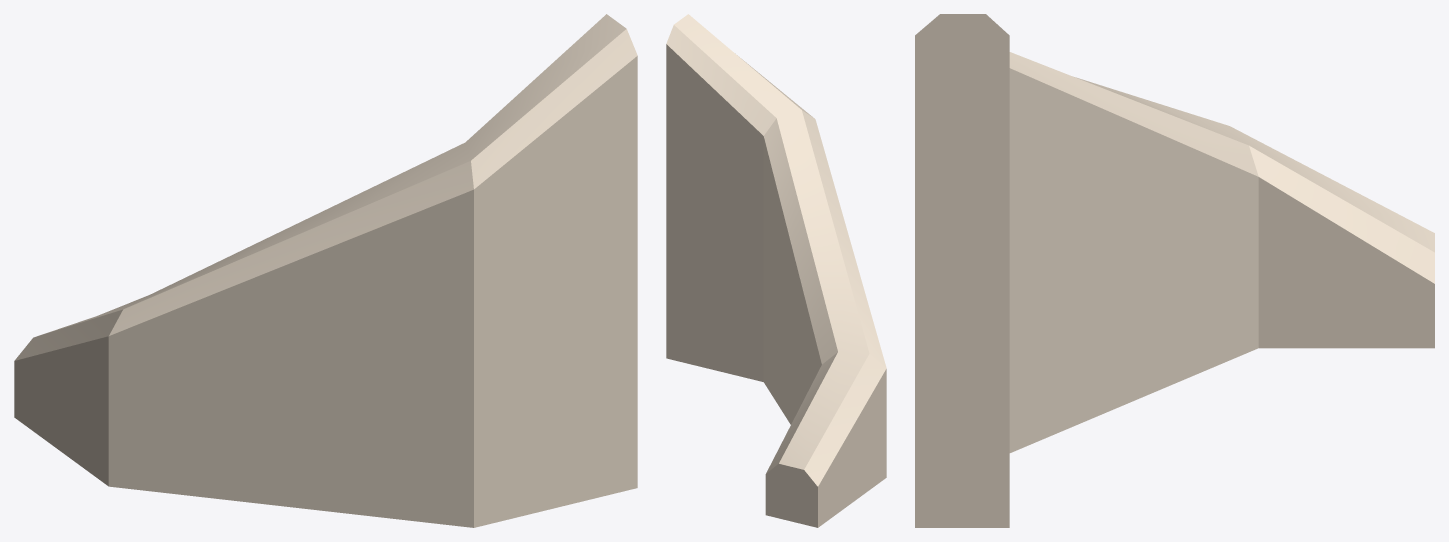
File: Stairs_Coping_Ramp_Curved_Small.glb
3 views of the same model, side by side, from view 1: azimuth 30°, elevation 25°; view 2: azimuth 150°, elevation 25°; view 3: azimuth 270°, elevation 25° (orthographic). The views are drawn at different scales.
Parts seen in each view (by area): view 1: Stairs_Coping_Ramp_Curved_Small; view 2: Stairs_Coping_Ramp_Curved_Small; view 3: Stairs_Coping_Ramp_Curved_Small.
Boxes of the visible parts, x1,y1,x2,y2 form: Stairs_Coping_Ramp_Curved_Small: (14,14,637,527); Stairs_Coping_Ramp_Curved_Small: (666,14,886,527); Stairs_Coping_Ramp_Curved_Small: (915,14,1434,527).
Bounding box in the file's own units: 0.495 × 0.54 × 0.495.
